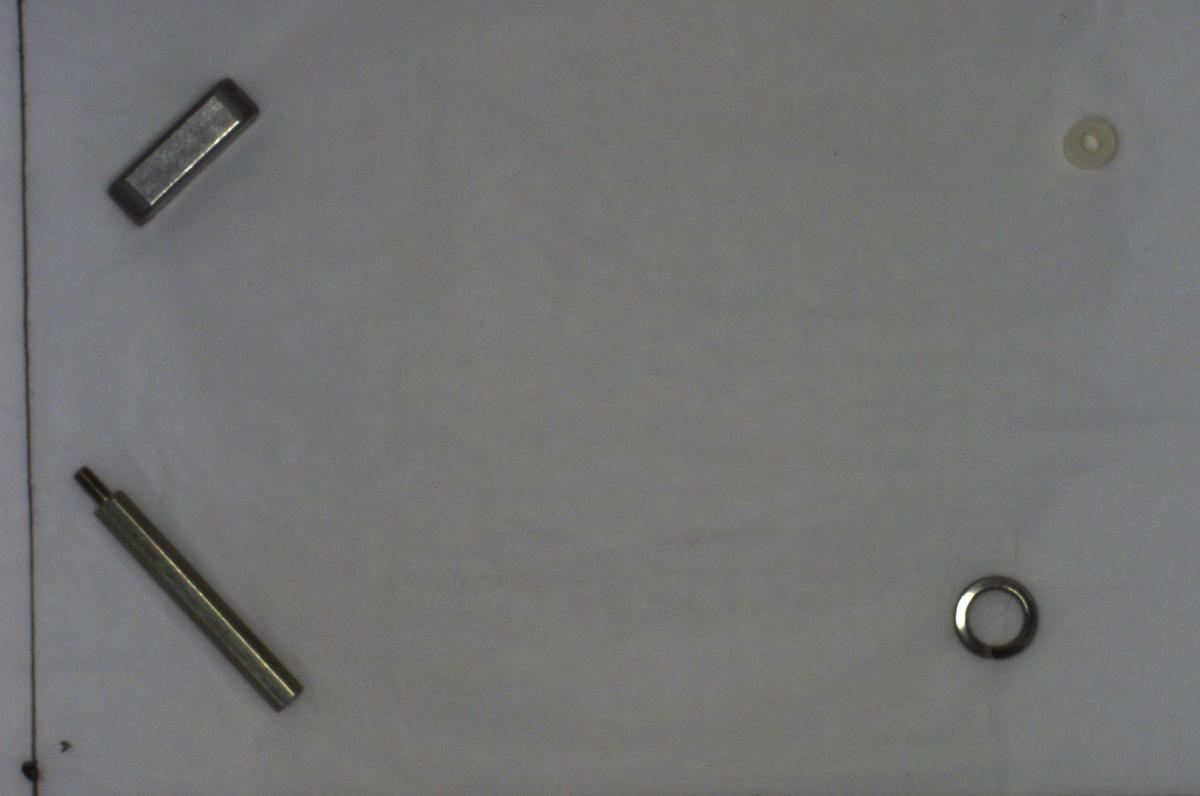Hexagonal steel column: (68, 460, 311, 723)
Keybar: (93, 70, 273, 238)
Plastic cushion pillar: (1053, 108, 1121, 175)
Spring washer: (948, 561, 1046, 663)
